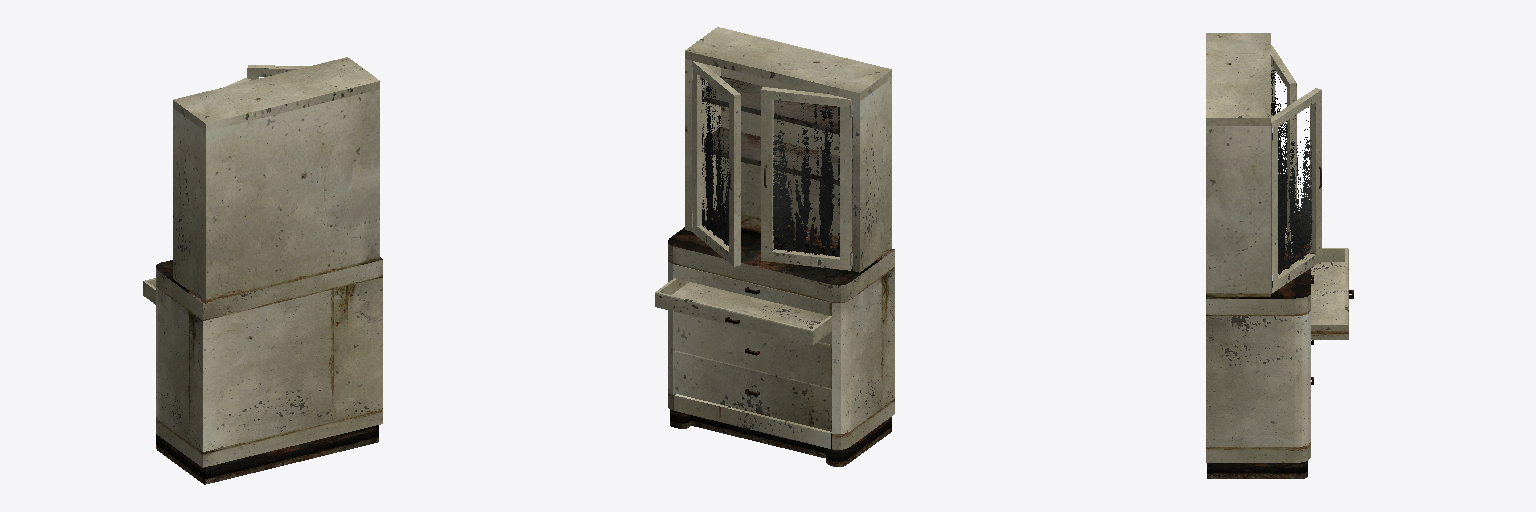
The picture shows the model from 3 angles: view 1: azimuth 30°, elevation 25°; view 2: azimuth 150°, elevation 25°; view 3: azimuth 270°, elevation 25°; orthographic projection.
Visible parts, largest first — view 1: bio_medical_cabinet_searched; view 2: bio_medical_cabinet_searched; view 3: bio_medical_cabinet_searched.
Part boxes in pixels (bbox=[...]): bio_medical_cabinet_searched: bbox=[143, 57, 382, 484]; bio_medical_cabinet_searched: bbox=[655, 27, 894, 466]; bio_medical_cabinet_searched: bbox=[1206, 33, 1353, 478].
Bounding box in the file's own units: 67.38 × 129 × 47.77.
Materials: 2 (2 with a texture image).